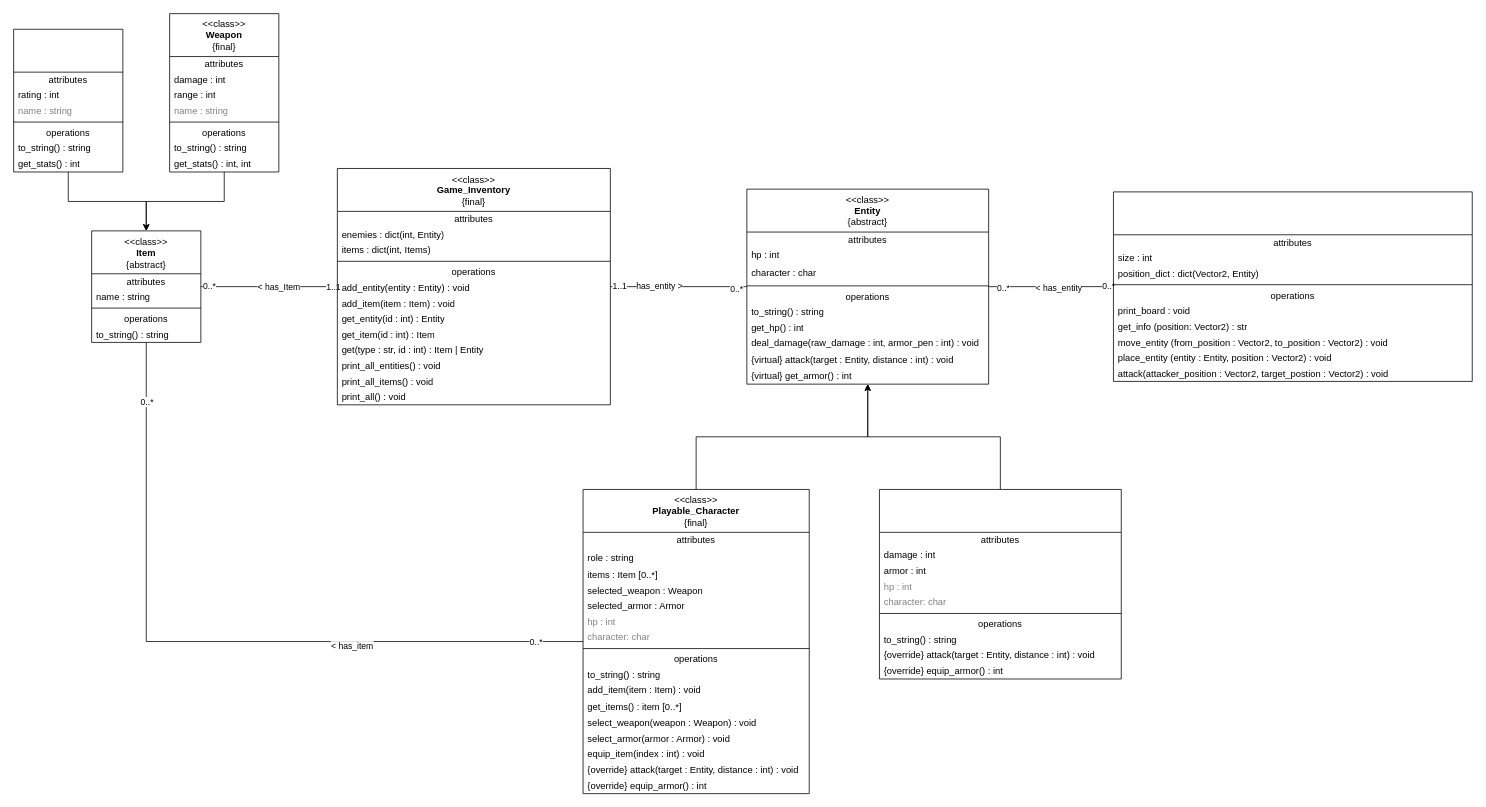
Image size: 1486x807. Some labels were removed from this diagram. Here are the shapes that lost their labels. From the top down, the box of each, then its label:
(13, 28, 123, 172): <<class>> Armor {final}
(1113, 191, 1472, 381): <<class>> Board {final}
(879, 489, 1121, 679): <<class>> Enemy {final}
